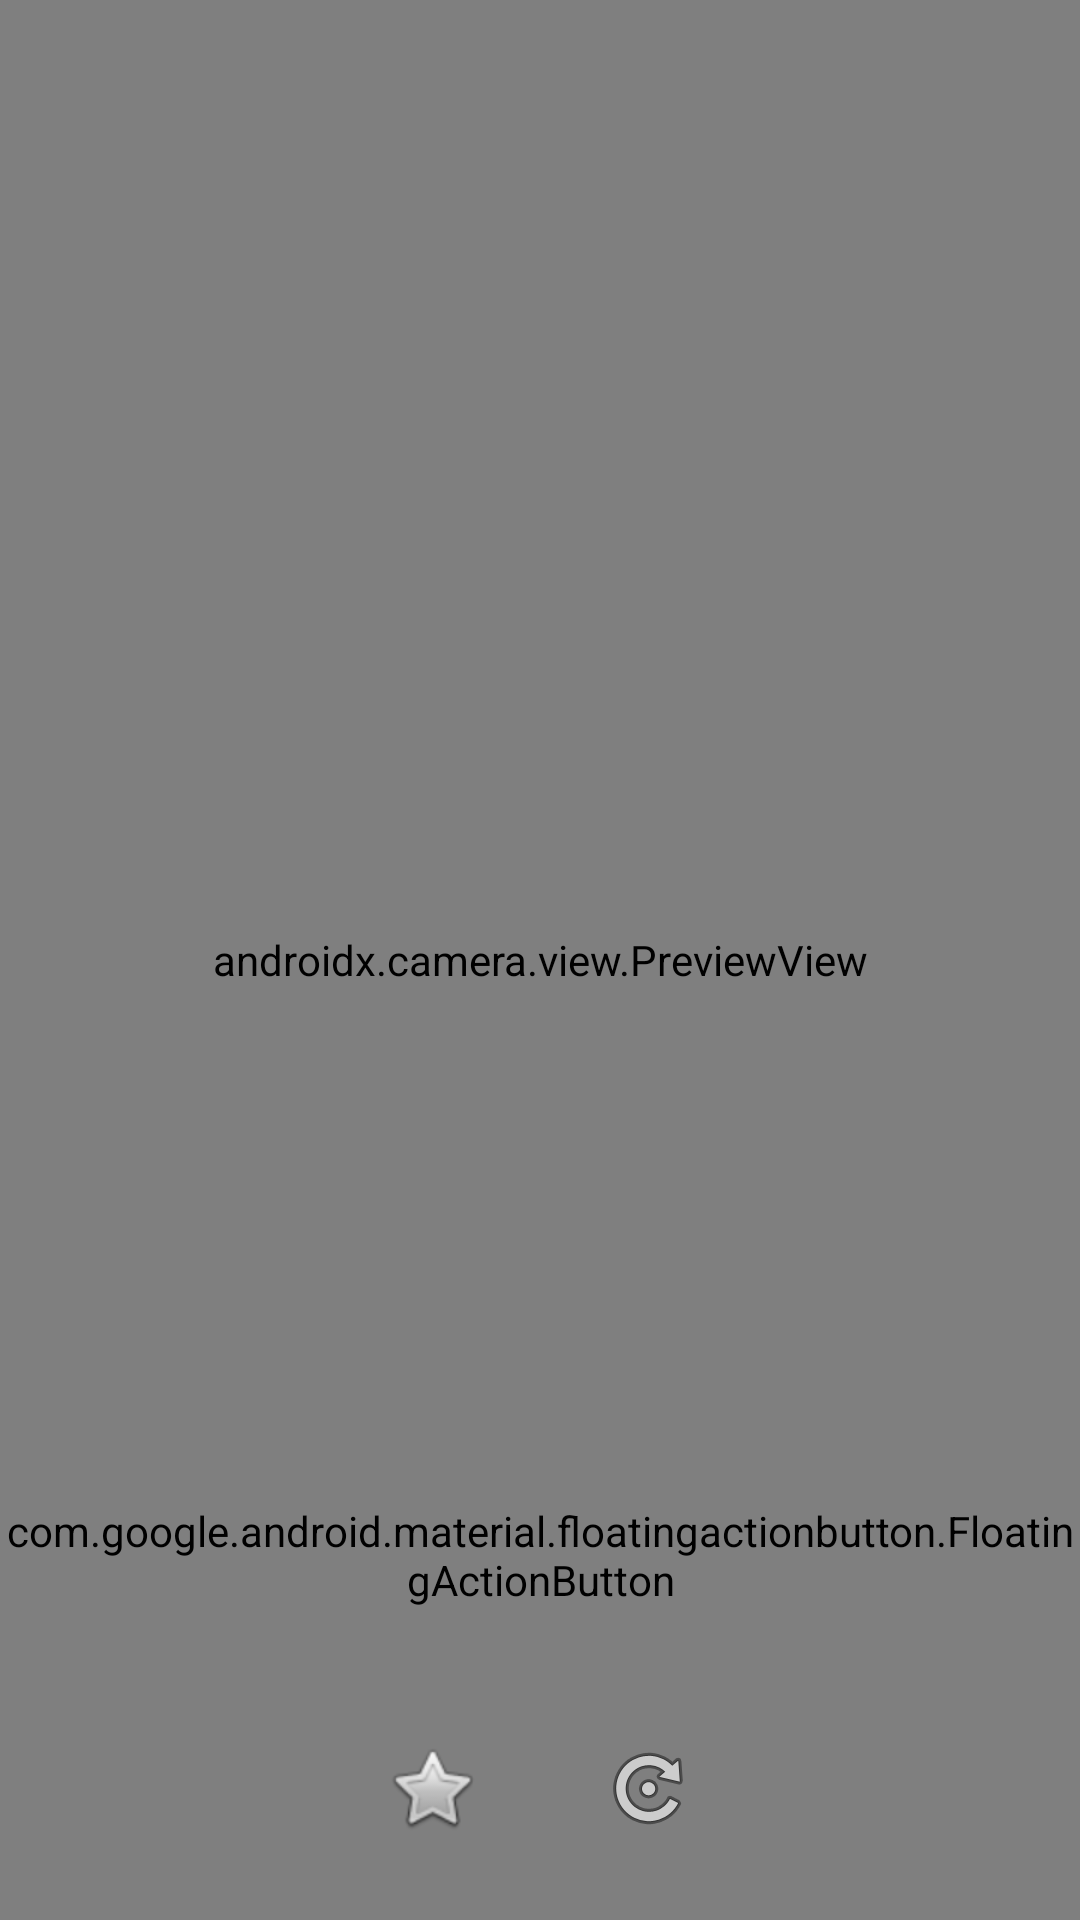

Screen size 1080 x 1920. Icon name, then its center in pixels as (x,y):
Switch camera: (648,1788)
